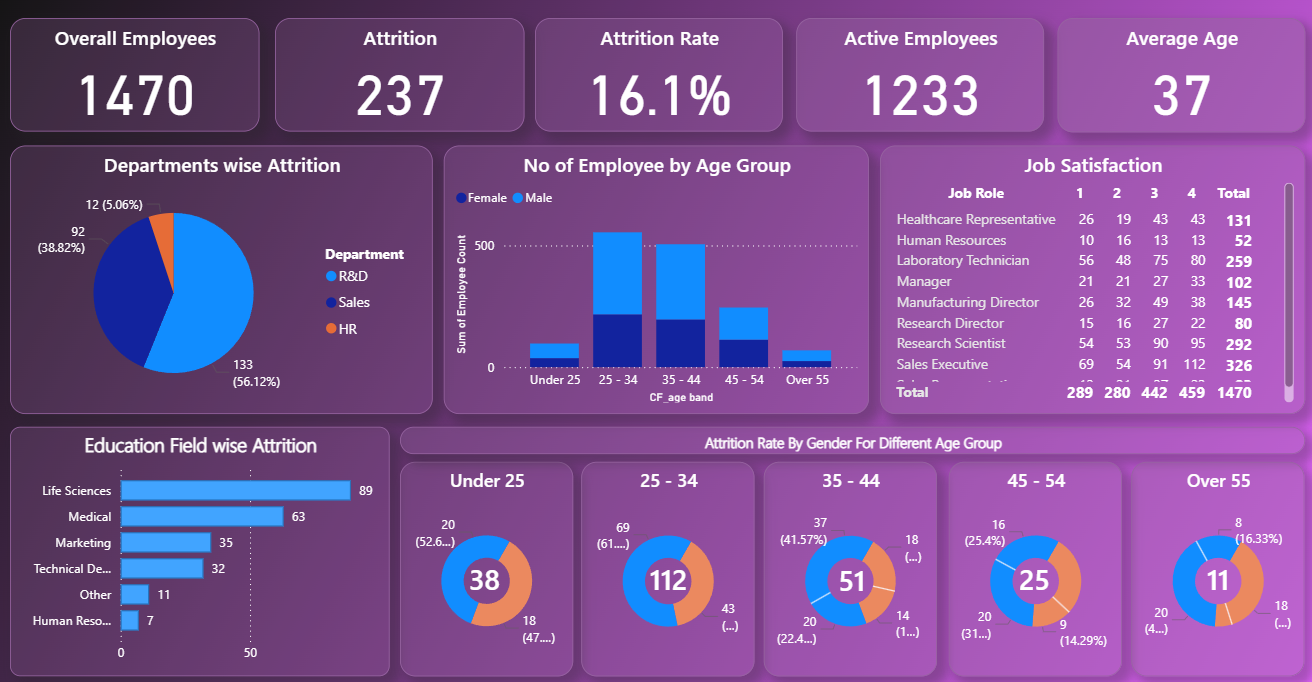

The page's visual inventory and layout, read from the dashboard file:
{"tool":"powerbi","page":{"name":"Page 1","canvas":[1280,720],"ordinal":0},"visuals":[{"type":"card","title":"Overall Employees","fields":{"Values":["Sum(HR data.Employee Count)"]},"box":[14.3,48.8,240.5,109.5],"z":0},{"type":"card","title":"Attrition","fields":{"Values":["Sum(HR data.Attrition Count)"]},"box":[270.2,48.8,240.5,109.5],"z":1000},{"type":"card","title":"Attrition Rate","fields":{"Values":["HR data.Attrition Rate"]},"box":[521.4,48.8,239.3,109.5],"z":2000},{"type":"card","title":"Active Employees","fields":{"Values":["HR data.Active Employees"]},"box":[773.8,48.8,239.3,109.5],"z":3000},{"type":"card","title":"Average Age","fields":{"Values":["Avg(HR data.Age)"]},"box":[1025,48.8,239.3,110.7],"z":4000},{"type":"pieChart","title":"Departments wise Attrition","fields":{"Category":["HR data.Department"],"Y":["Sum(HR data.Attrition Count)"]},"box":[14.3,171.4,408.3,259.5],"z":5000},{"type":"columnChart","title":"No of Employee by Age Group","fields":{"Category":["HR data.CF_age band"],"Y":["Sum(HR data.Employee Count)"],"Series":["HR data.Gender"]},"box":[433.3,171.4,410.7,259.5],"z":6000},{"type":"pivotTable","title":"Job Satisfaction","fields":{"Rows":["HR data.Job Role"],"Columns":["HR data.Job Satisfaction"],"Values":["Sum(HR data.Employee Count)"]},"box":[853.6,171.4,410.7,259.5],"z":7000},{"type":"clusteredBarChart","title":"Education Field wise Attrition","fields":{"Category":["HR data.Education Field"],"Y":["Sum(HR data.Attrition Count)"]},"box":[14.3,442.9,366.7,240.5],"z":8000},{"type":"donutChart","title":"Under 25","fields":{"Category":["HR data.Gender"],"Y":["Sum(HR data.Attrition Count)"],"Series":["HR data.CF_age band"]},"box":[390.5,476.2,167,207],"z":9000},{"type":"textbox","title":"Attrition Rate By Gender For Different Age Group","box":[390.5,442.9,873.8,26.2],"z":10000},{"type":"donutChart","title":"25 - 34","fields":{"Category":["HR data.Gender"],"Y":["Sum(HR data.Attrition Count)"],"Series":["HR data.CF_age band"]},"box":[566.2,476.2,167.5,207.5],"z":10001},{"type":"donutChart","title":"35 - 44","fields":{"Category":["HR data.Gender"],"Y":["Sum(HR data.Attrition Count)"],"Series":["HR data.CF_age band"]},"box":[742.5,476.2,167,207.5],"z":10002},{"type":"donutChart","title":"45 - 54","fields":{"Category":["HR data.Gender"],"Y":["Sum(HR data.Attrition Count)"],"Series":["HR data.CF_age band"]},"box":[920,476.2,167.5,207.5],"z":10003},{"type":"donutChart","title":"Over 55","fields":{"Category":["HR data.Gender"],"Y":["Sum(HR data.Attrition Count)"],"Series":["HR data.CF_age band"]},"box":[1096.2,476.2,167.5,207.5],"z":10004},{"type":"card","fields":{"Values":["Sum(HR data.Attrition Count)"]},"box":[433.8,550,76.2,81.2],"z":10005},{"type":"card","fields":{"Values":["Sum(HR data.Attrition Count)"]},"box":[618.8,551.2,62.5,80],"z":10006},{"type":"card","fields":{"Values":["Sum(HR data.Attrition Count)"]},"box":[788.8,551.2,76.2,81.2],"z":10007},{"type":"card","fields":{"Values":["Sum(HR data.Attrition Count)"]},"box":[965,550,76.2,81.2],"z":10008},{"type":"card","fields":{"Values":["Sum(HR data.Attrition Count)"]},"box":[1142.5,550,76.2,81.2],"z":10009}]}

Visuals, with their boxes on the page's 1280x720 design canvas (x1, y1, x2, y2). These are canvas units, not pixel positions in the 1312x682 screenshot, which may show the page scaled, cropped or inside an application window:
"Overall Employees" card: {"x1": 14, "y1": 49, "x2": 255, "y2": 158}
"Attrition" card: {"x1": 270, "y1": 49, "x2": 511, "y2": 158}
"Attrition Rate" card: {"x1": 521, "y1": 49, "x2": 761, "y2": 158}
"Active Employees" card: {"x1": 774, "y1": 49, "x2": 1013, "y2": 158}
"Average Age" card: {"x1": 1025, "y1": 49, "x2": 1264, "y2": 160}
"Departments wise Attrition" pieChart: {"x1": 14, "y1": 171, "x2": 423, "y2": 431}
"No of Employee by Age Group" columnChart: {"x1": 433, "y1": 171, "x2": 844, "y2": 431}
"Job Satisfaction" pivotTable: {"x1": 854, "y1": 171, "x2": 1264, "y2": 431}
"Education Field wise Attrition" clusteredBarChart: {"x1": 14, "y1": 443, "x2": 381, "y2": 683}
"Under 25" donutChart: {"x1": 390, "y1": 476, "x2": 558, "y2": 683}
"Attrition Rate By Gender For Different Age Group" textbox: {"x1": 390, "y1": 443, "x2": 1264, "y2": 469}
"25 - 34" donutChart: {"x1": 566, "y1": 476, "x2": 734, "y2": 684}
"35 - 44" donutChart: {"x1": 742, "y1": 476, "x2": 910, "y2": 684}
"45 - 54" donutChart: {"x1": 920, "y1": 476, "x2": 1088, "y2": 684}
"Over 55" donutChart: {"x1": 1096, "y1": 476, "x2": 1264, "y2": 684}
card - Sum(HR data.Attrition Count): {"x1": 434, "y1": 550, "x2": 510, "y2": 631}
card - Sum(HR data.Attrition Count): {"x1": 619, "y1": 551, "x2": 681, "y2": 631}
card - Sum(HR data.Attrition Count): {"x1": 789, "y1": 551, "x2": 865, "y2": 632}
card - Sum(HR data.Attrition Count): {"x1": 965, "y1": 550, "x2": 1041, "y2": 631}
card - Sum(HR data.Attrition Count): {"x1": 1142, "y1": 550, "x2": 1219, "y2": 631}
